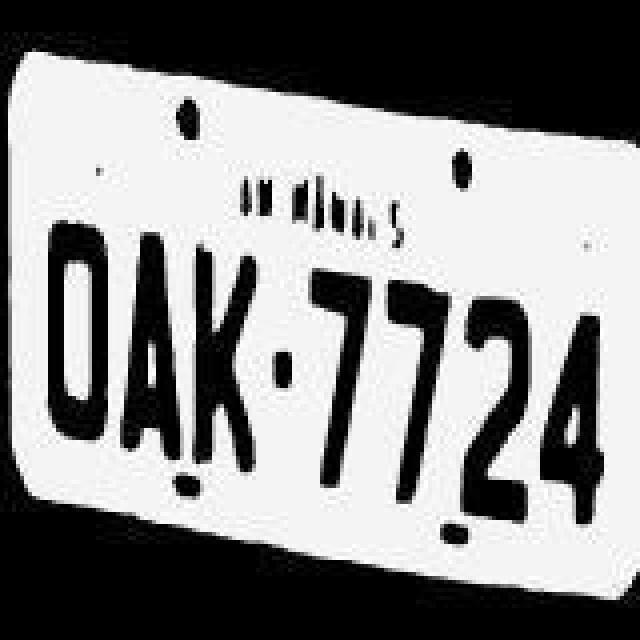2: (458, 282, 534, 534)
4: (534, 296, 610, 536)
7: (386, 272, 454, 512), (306, 264, 374, 496)
A: (118, 212, 186, 468)
K: (184, 238, 264, 482)
O: (42, 212, 118, 468)
